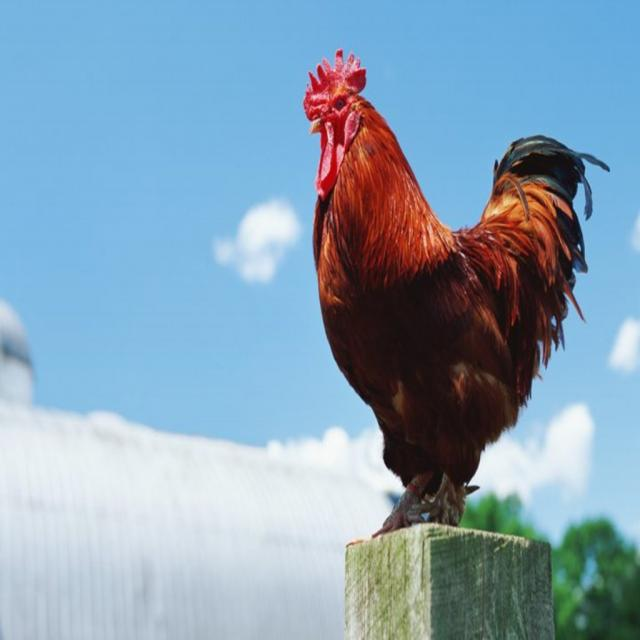Chicken: (292, 40, 607, 530)
